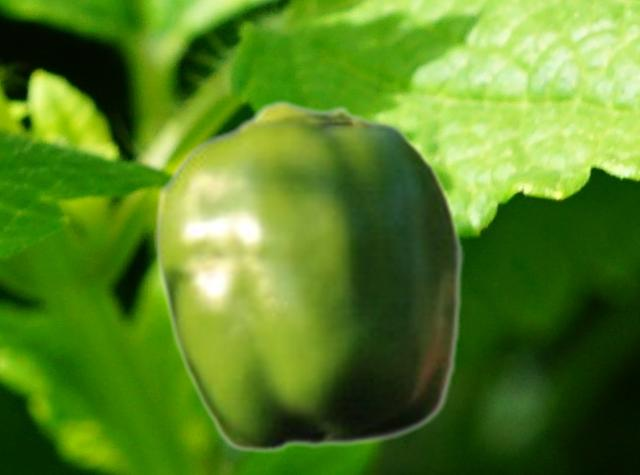bell_pepper: (154, 99, 463, 453)
